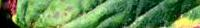Tomato leaf bacterial spot: (10, 0, 200, 28)
